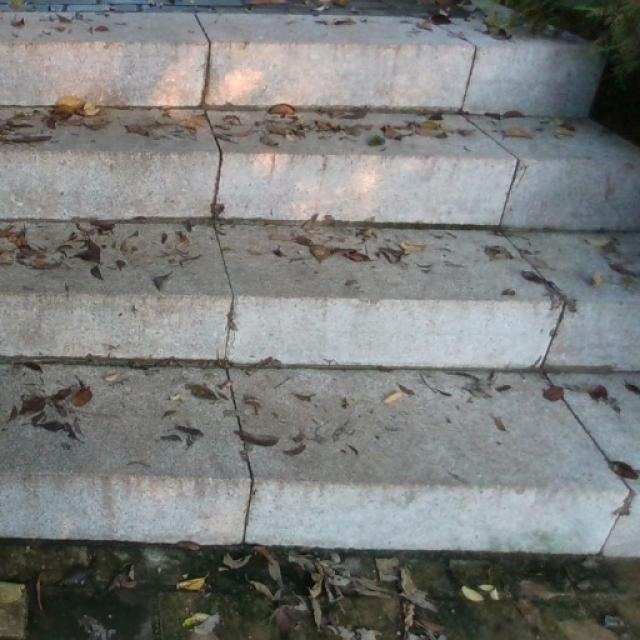Stairs: (0, 1, 639, 556)
